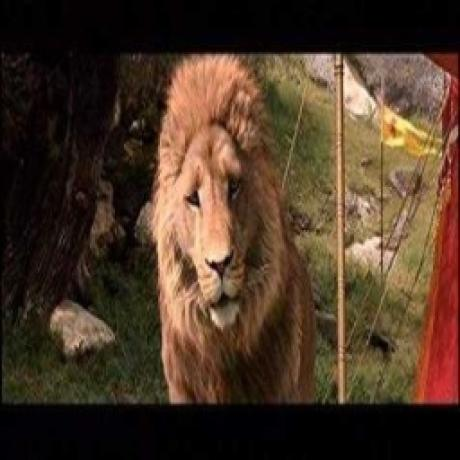Lion: (145, 55, 320, 401)
